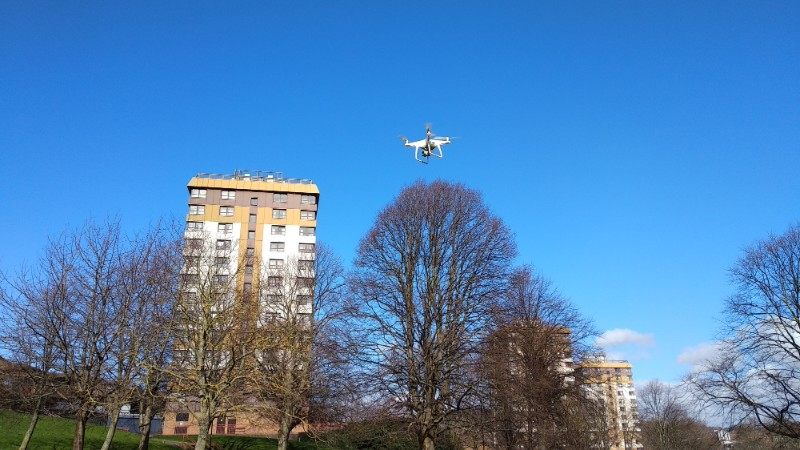drone: (397, 121, 460, 165)
